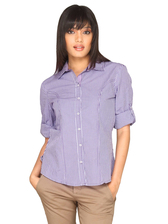clothoes: (36, 63, 138, 188)
